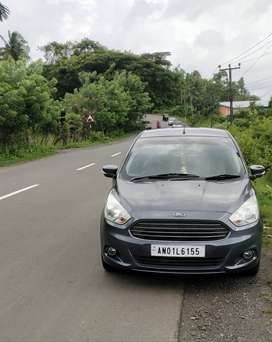AN01L6155: (150, 244, 205, 256)
